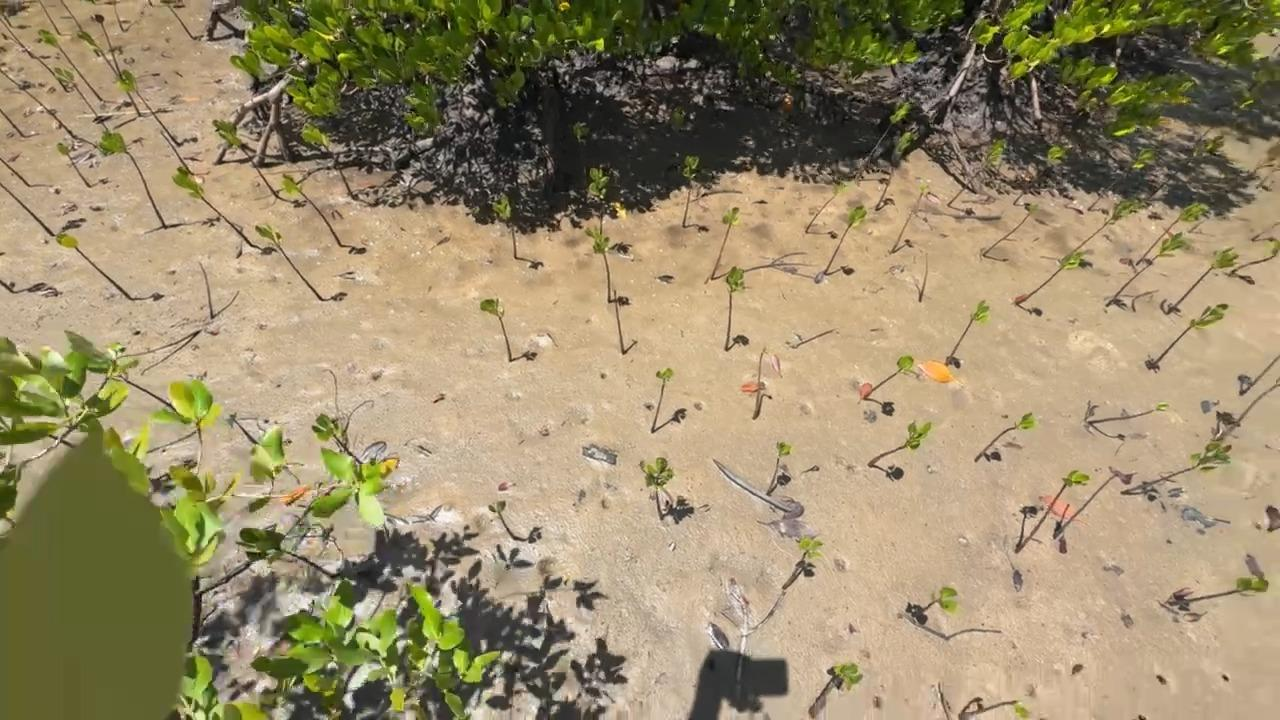Tree: (170, 166, 255, 248), (1105, 231, 1194, 307), (99, 131, 167, 229), (1052, 465, 1139, 540), (1015, 470, 1090, 553), (1121, 442, 1233, 495), (76, 31, 142, 117), (236, 527, 340, 581), (0, 69, 80, 139), (254, 224, 326, 301), (212, 120, 280, 199), (55, 233, 135, 300), (1148, 304, 1228, 370), (1144, 135, 1226, 199), (1166, 245, 1240, 315), (117, 69, 182, 147), (1135, 201, 1211, 266), (1211, 140, 1280, 207), (281, 174, 343, 248), (854, 103, 908, 184), (1086, 148, 1153, 212), (301, 122, 356, 199), (1, 32, 70, 93), (947, 139, 1008, 207), (1073, 196, 1141, 253), (1015, 252, 1084, 306), (107, 360, 177, 412), (1193, 96, 1262, 145), (1010, 145, 1066, 205), (1168, 574, 1269, 606), (808, 662, 863, 720), (867, 419, 932, 468), (974, 412, 1036, 463), (0, 182, 56, 238), (982, 203, 1040, 257), (824, 205, 868, 275), (874, 132, 912, 212), (944, 300, 990, 366), (889, 183, 930, 254), (311, 413, 364, 465), (752, 344, 784, 421), (1233, 376, 1280, 427), (863, 355, 915, 401), (805, 180, 848, 234), (88, 14, 123, 80), (639, 457, 675, 521), (782, 535, 823, 589), (479, 298, 513, 363), (584, 224, 611, 303), (711, 206, 739, 281), (1087, 402, 1172, 425), (1228, 239, 1280, 276), (723, 266, 744, 351), (1239, 354, 1280, 396), (492, 192, 517, 258), (56, 142, 91, 188), (957, 699, 1033, 720), (651, 368, 675, 433), (588, 167, 609, 241), (765, 441, 792, 496), (160, 0, 196, 40), (911, 586, 957, 617), (0, 18, 35, 58), (223, 412, 259, 445), (488, 500, 516, 540), (681, 156, 696, 228), (572, 120, 590, 177), (1247, 62, 1280, 92), (0, 158, 31, 188), (38, 0, 63, 37), (199, 263, 214, 319), (59, 0, 84, 33), (0, 108, 26, 138), (613, 289, 625, 354), (103, 0, 125, 33), (1256, 164, 1280, 191), (1251, 221, 1280, 242), (918, 252, 928, 302), (1189, 218, 1210, 233), (0, 279, 16, 294), (0, 11, 13, 28), (148, 0, 153, 7)
